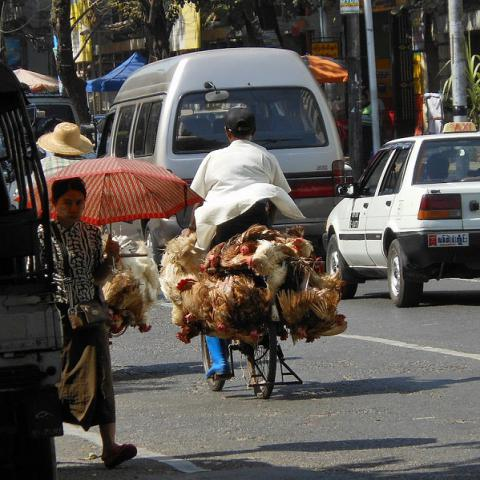car: (316, 130, 479, 310)
